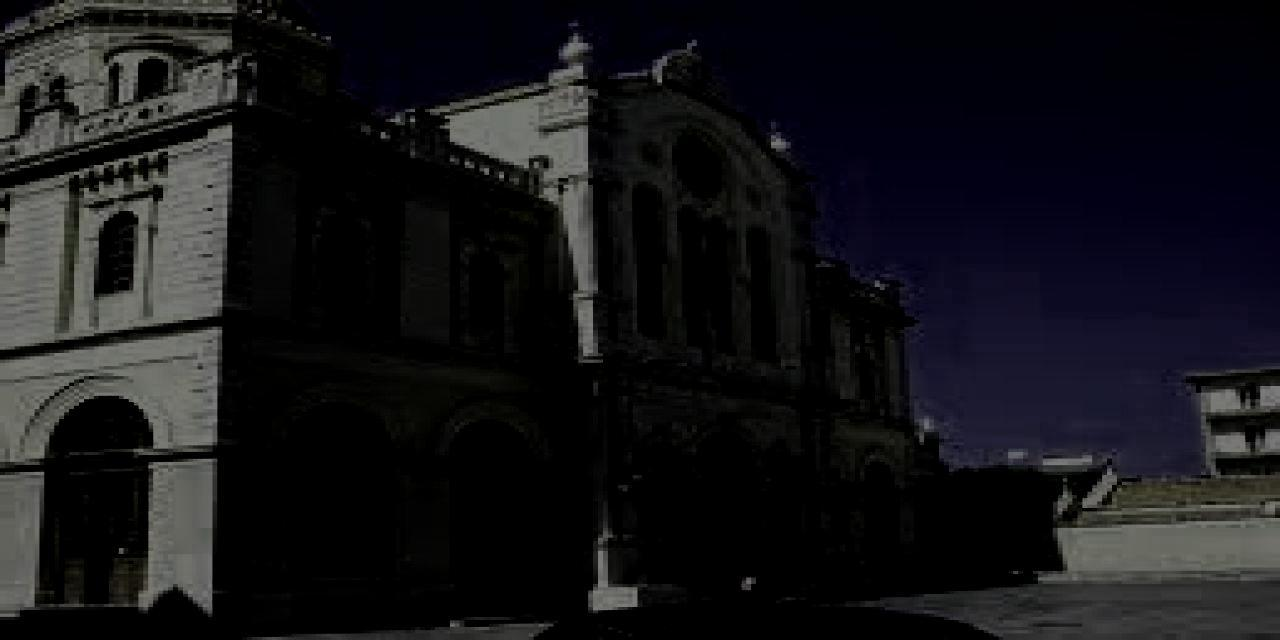Agios Minas: (1, 1, 933, 623)
